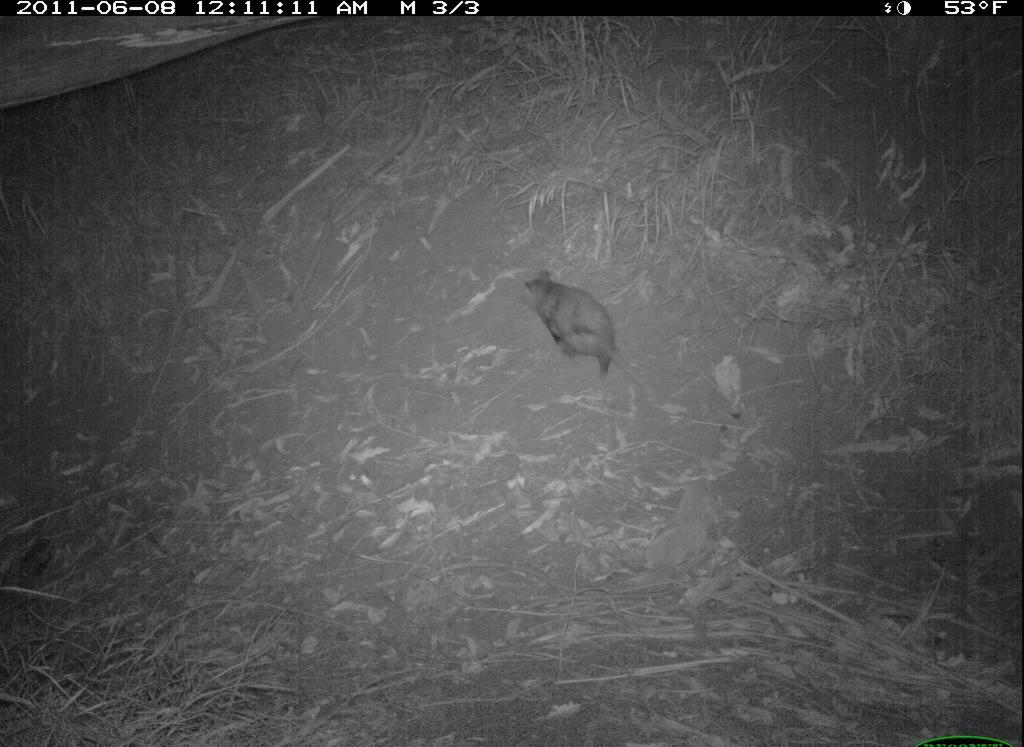opossum: (527, 265, 625, 404)
